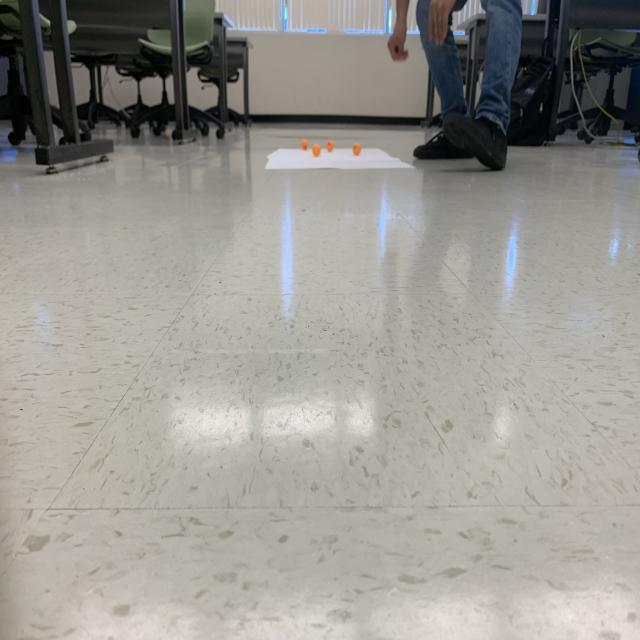ping-pong-ball: (311, 142, 321, 158), (325, 138, 335, 152), (352, 142, 362, 155), (300, 138, 309, 150)
